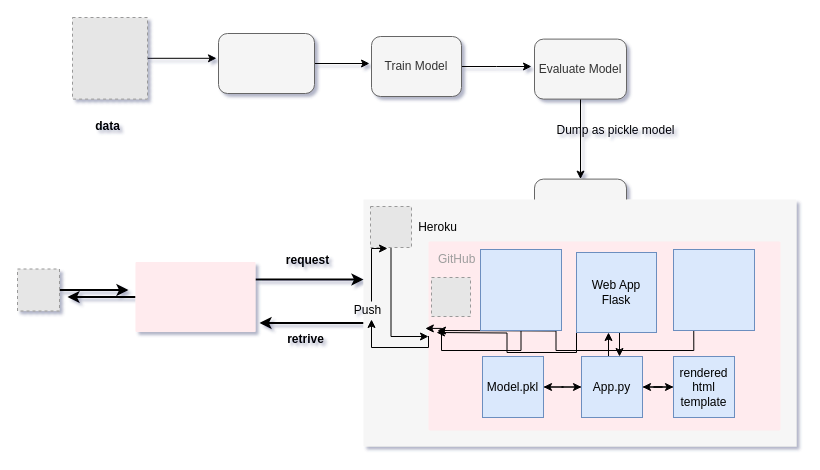
Image size: 820x470. Some labels were removed from this diagram. Grey dashed boxes stand in for pictures. The shapes that lost their labels are listed below. From the top down, each one's centre as x and y in pixels, then its label:
At [266,63]: "Pre-Process".
At [195,297]: "UI Browser".
At [521,289]: "Procfile".
At [713,289]: "requirement.txt".
